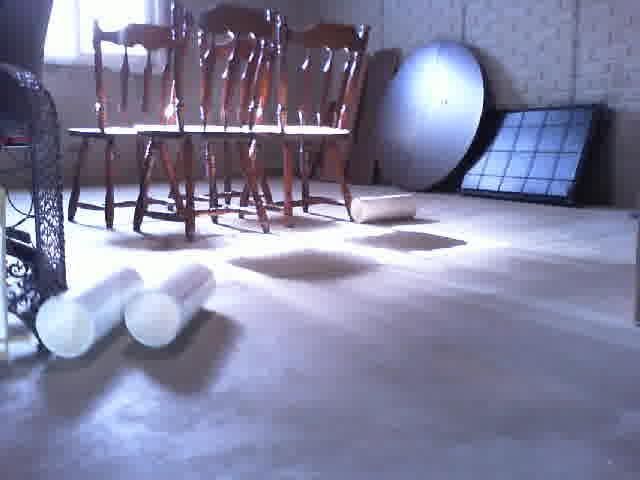coral: (37, 266, 142, 356), (124, 261, 217, 347), (352, 195, 415, 221)
